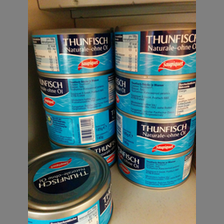fish: (28, 148, 115, 224), (115, 23, 196, 76), (32, 25, 113, 76), (115, 140, 195, 190), (112, 109, 195, 157), (114, 74, 195, 120), (35, 73, 116, 114), (41, 109, 114, 147)
